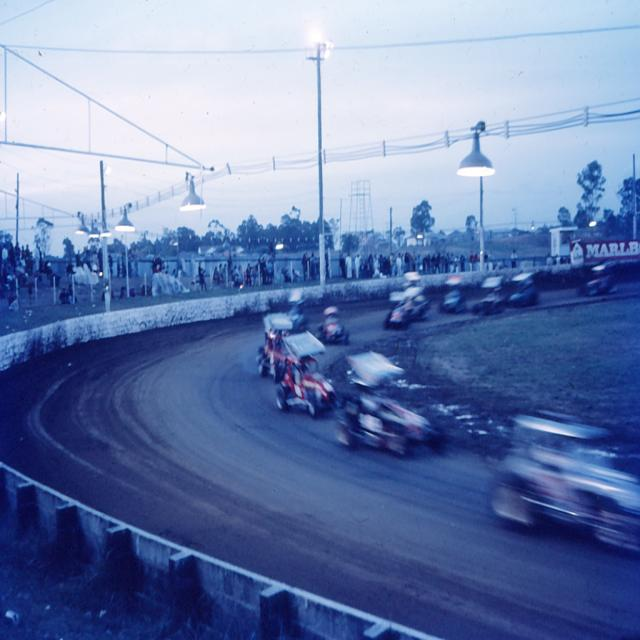car: (276, 325, 336, 419)
